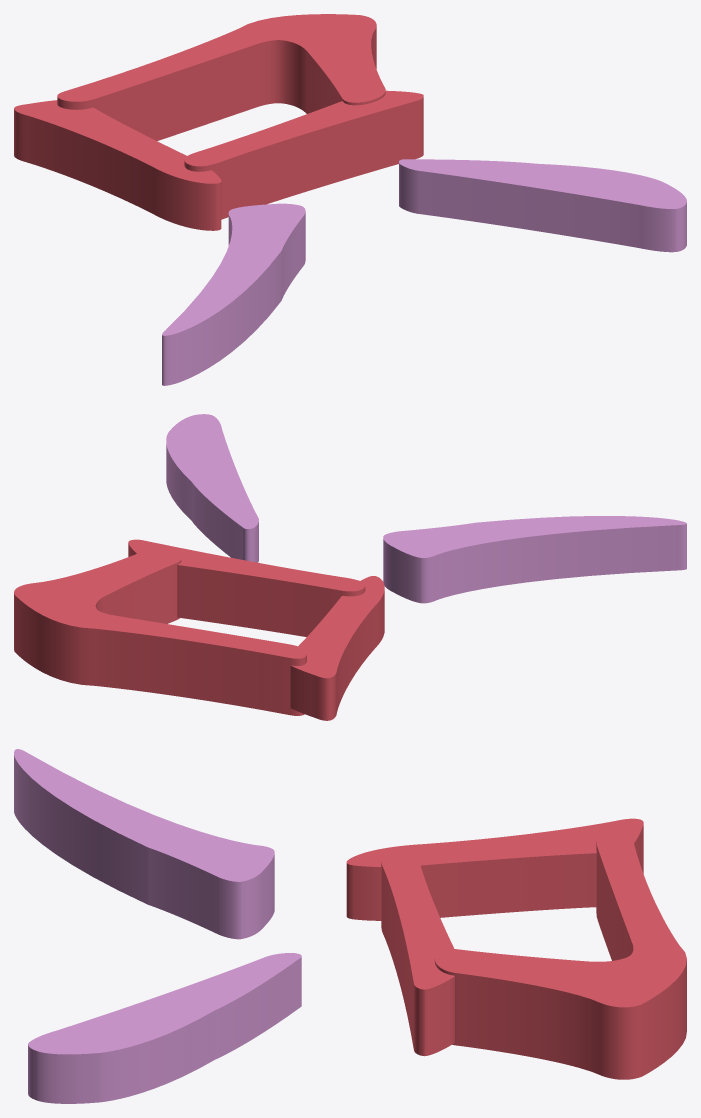
Rendered from hanzi76.fbx.
3 renders of one model, top to bottom at view 1: azimuth 30°, elevation 25°; view 2: azimuth 150°, elevation 25°; view 3: azimuth 270°, elevation 25°, orthographic. The views are drawn at different scales.
Parts seen in each view (by area): view 1: Curve.001, Curve.004, Curve.002, Curve, Curve.003; view 2: Curve.001, Curve.003, Curve.002, Curve.004, Curve; view 3: Curve.001, Curve.003, Curve.004, Curve, Curve.002.
Boxes of the visible parts, left/top/right/bottom form: Curve.001: left=57, top=14, right=385, bottom=140; Curve.004: left=399, top=159, right=686, bottom=252; Curve.002: left=184, top=90, right=423, bottom=219; Curve: left=14, top=100, right=221, bottom=230; Curve.003: left=162, top=203, right=305, bottom=385; Curve.001: left=14, top=550, right=306, bottom=715; Curve.003: left=383, top=516, right=686, bottom=603; Curve.002: left=128, top=539, right=365, bottom=636; Curve.004: left=166, top=414, right=258, bottom=562; Curve: left=290, top=576, right=384, bottom=720; Curve.001: left=434, top=830, right=686, bottom=1079; Curve.003: left=14, top=749, right=274, bottom=939; Curve.004: left=28, top=953, right=301, bottom=1103; Curve: left=346, top=818, right=643, bottom=920; Curve.002: left=381, top=851, right=454, bottom=1056.
Bounding box in the file's own units: 21.05 × 19.85 × 2.36.
